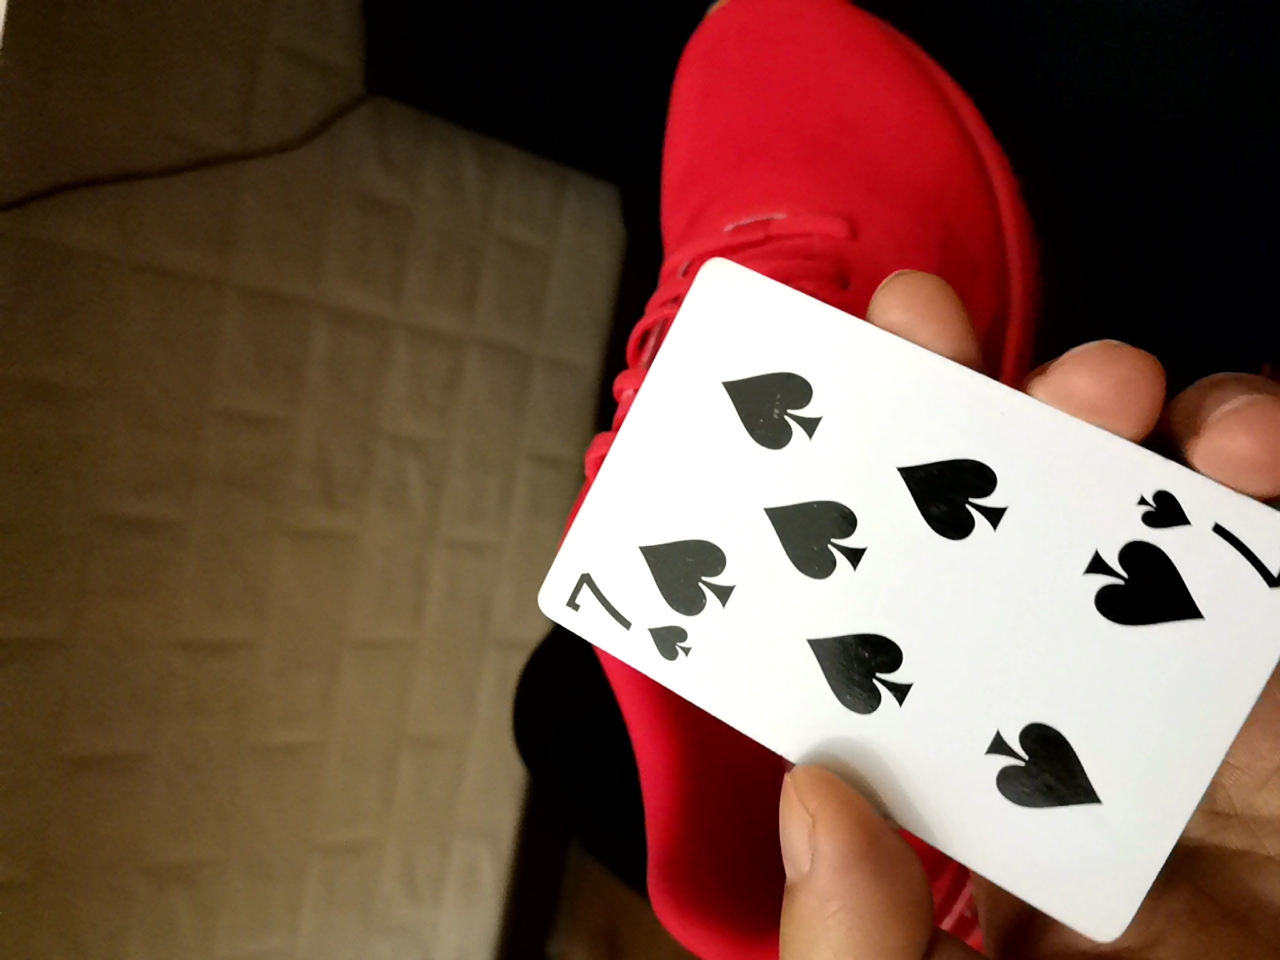ht 7: (523, 287, 1274, 929)
